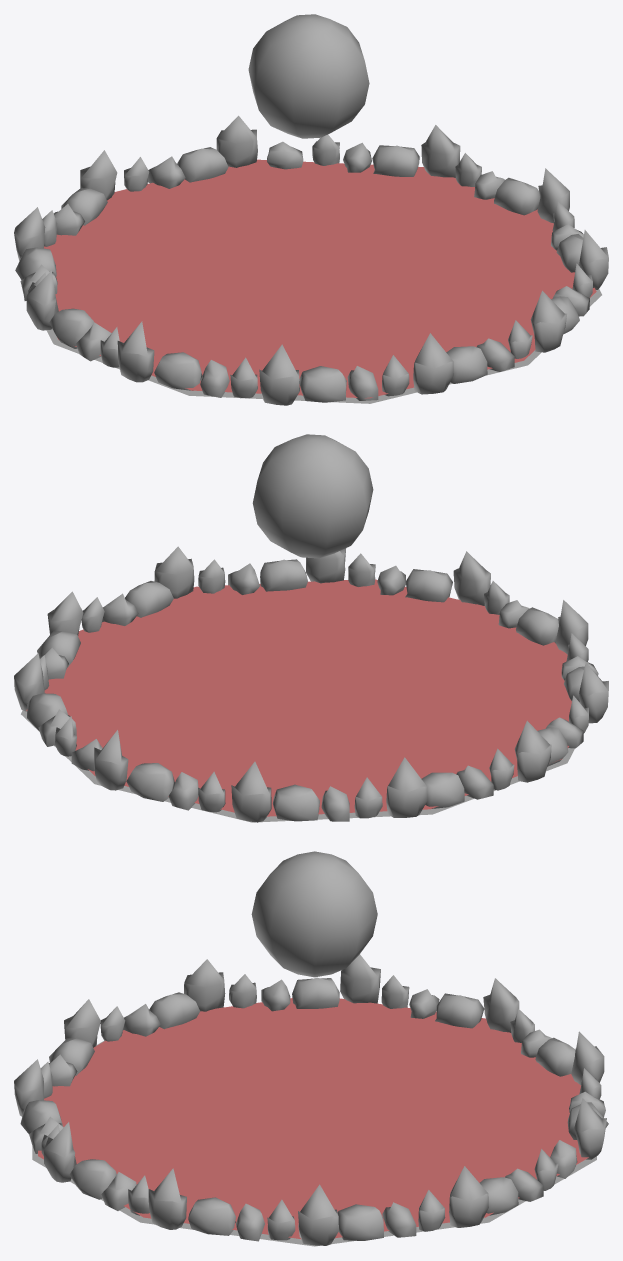
Rendered from Spawner.fbx.
3 renders of one model, top to bottom at view 1: azimuth 30°, elevation 25°; view 2: azimuth 150°, elevation 25°; view 3: azimuth 270°, elevation 25°, orthographic.
Parts seen in each view (by area): view 1: SpawnerWaves, SpawnerBody, SpawnerHitPoint; view 2: SpawnerWaves, SpawnerBody, SpawnerHitPoint; view 3: SpawnerWaves, SpawnerBody, SpawnerHitPoint.
Boxes of the visible parts, left/top/right/bottom form: SpawnerWaves: left=44, top=159, right=596, bottom=398; SpawnerBody: left=14, top=115, right=608, bottom=405; SpawnerHitPoint: left=248, top=14, right=369, bottom=138; SpawnerWaves: left=26, top=579, right=571, bottom=816; SpawnerBody: left=14, top=546, right=608, bottom=822; SpawnerHitPoint: left=252, top=434, right=373, bottom=558; SpawnerWaves: left=38, top=998, right=588, bottom=1239; SpawnerBody: left=14, top=954, right=608, bottom=1246; SpawnerHitPoint: left=251, top=851, right=377, bottom=977.
Size of the model in its own units: 1.94 by 0.9454 by 1.93.
